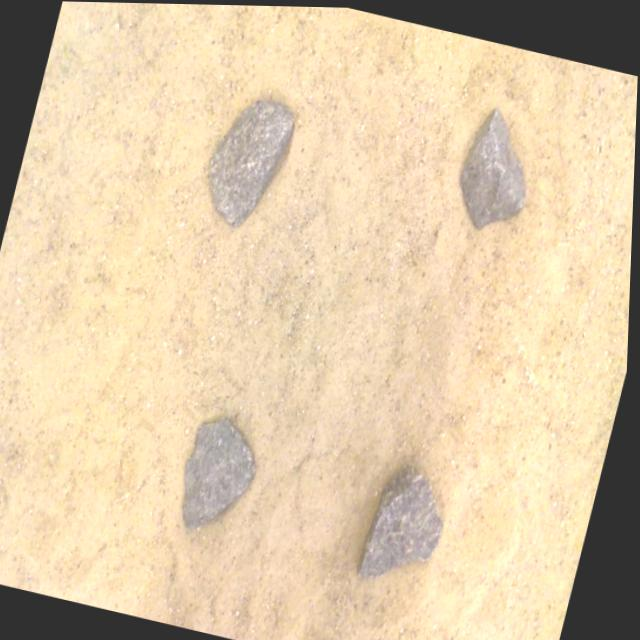rock: (210, 97, 294, 223), (362, 462, 446, 573), (186, 415, 258, 525), (461, 104, 526, 224)
